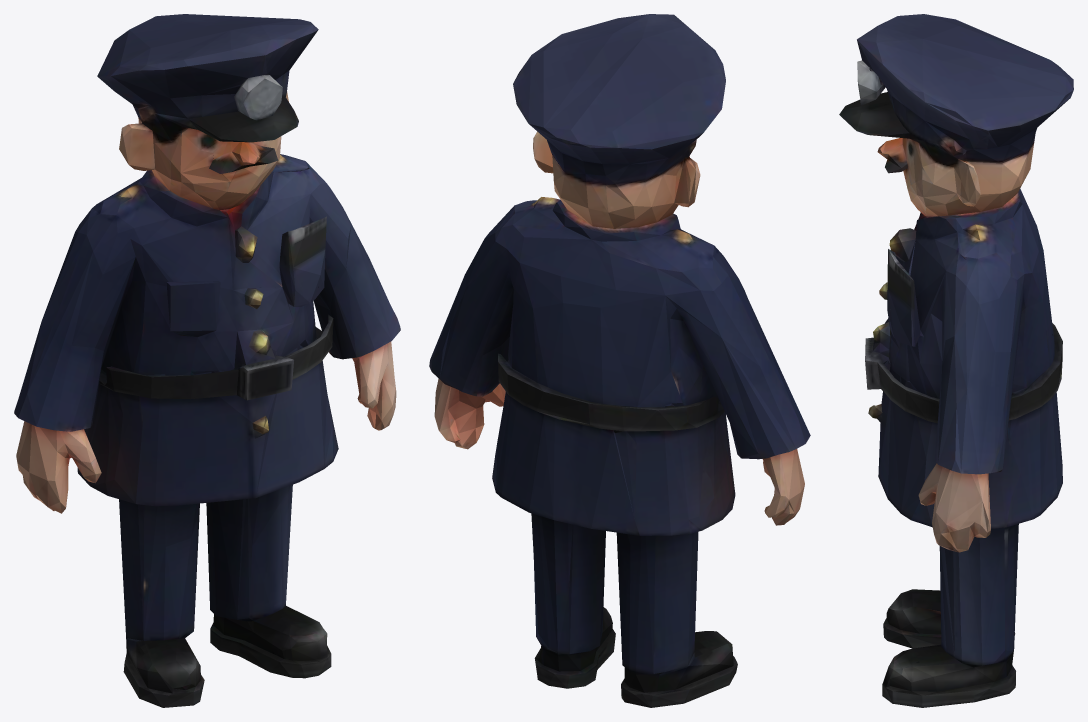
The model's file is hale.glb.
3 renders of one model, left to right at view 1: azimuth 30°, elevation 25°; view 2: azimuth 150°, elevation 25°; view 3: azimuth 270°, elevation 25°, orthographic. The views are drawn at different scales.
Visible parts, largest first — view 1: geometry_0; view 2: geometry_0; view 3: geometry_0.
Part boxes in pixels (x1,y1,x2,y2): geometry_0: (14, 14, 400, 707); geometry_0: (429, 14, 810, 707); geometry_0: (839, 14, 1073, 707).
Bounding box in the file's own units: 0.6117 × 0.9981 × 0.3373.
1 material, 1 textured.
